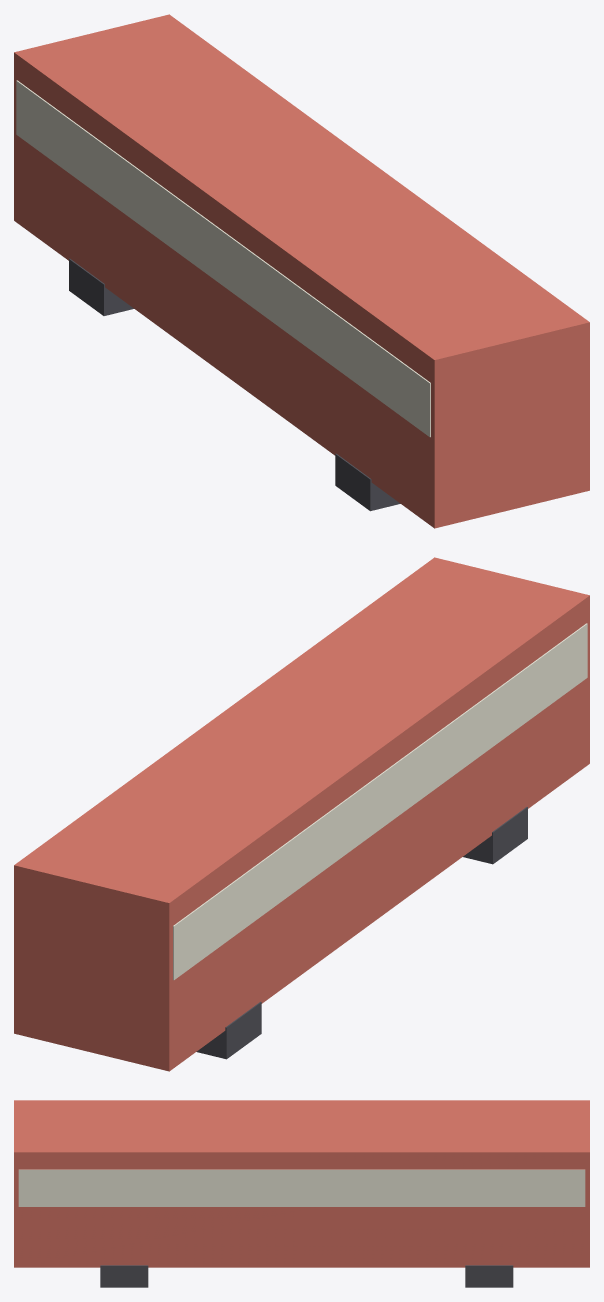
Rendered from bus.glb.
The picture shows the model from 3 angles, top to bottom: view 1: azimuth 30°, elevation 25°; view 2: azimuth 150°, elevation 25°; view 3: azimuth 270°, elevation 25°; orthographic projection. The views are drawn at different scales.
Visible parts, largest first — view 1: body, glass, wheels; view 2: body, glass, wheels; view 3: body, glass, wheels.
Boxes of the visible parts, x1,y1,x2,y2 form: body: (14,14,589,528); glass: (16,80,430,437); wheels: (69,258,400,511); body: (14,557,589,1071); glass: (173,623,587,980); wheels: (196,807,527,1059); body: (14,1100,589,1267); glass: (18,1169,585,1206); wheels: (100,1265,513,1287).
Size of the model in its own units: 2.6 by 3.1 by 12.
